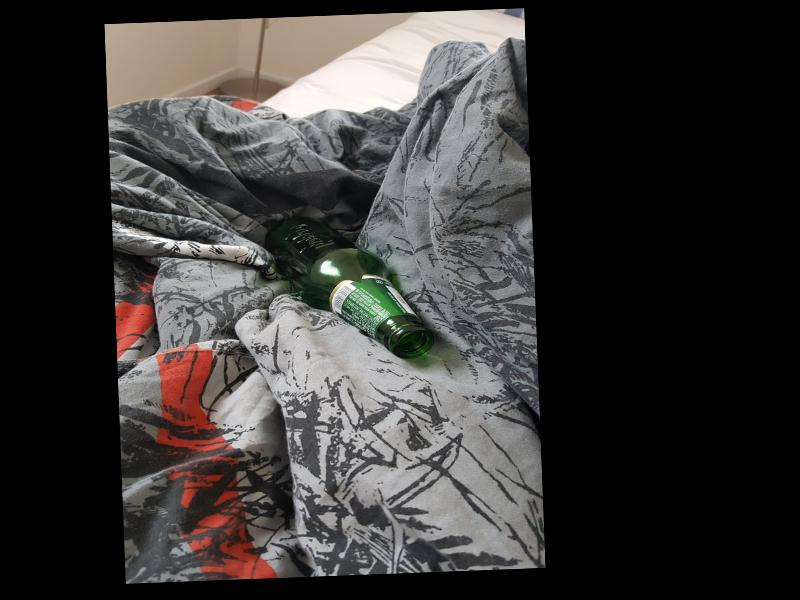Beer: (263, 212, 432, 364)
